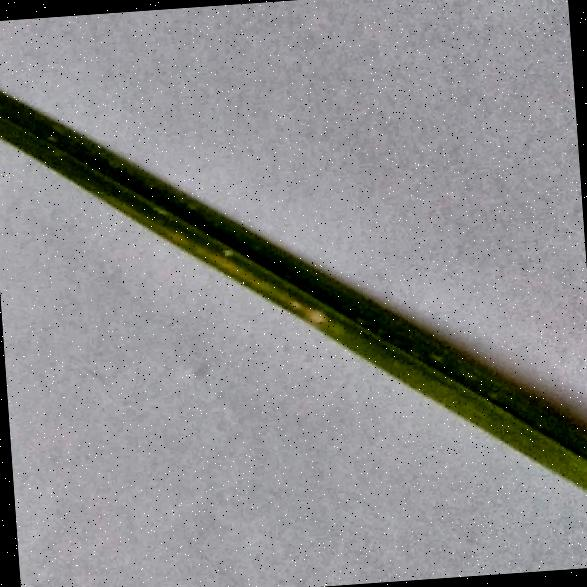Leaf_smut: (108, 140, 346, 348)
